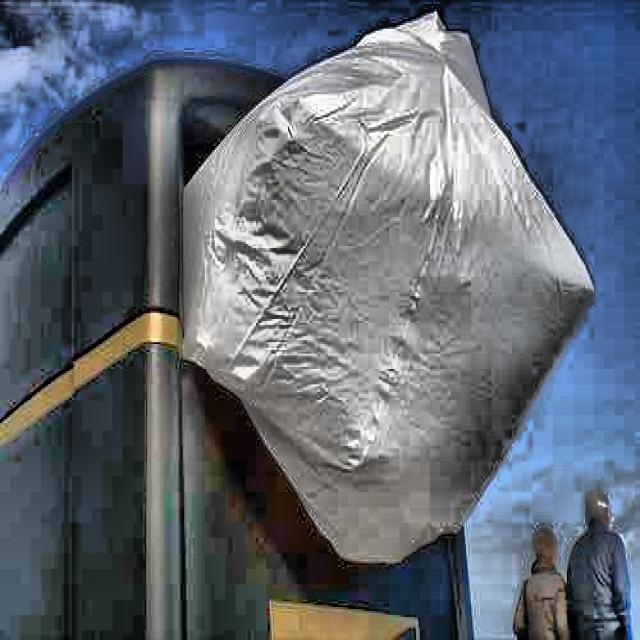Plastic: (175, 3, 597, 575)
